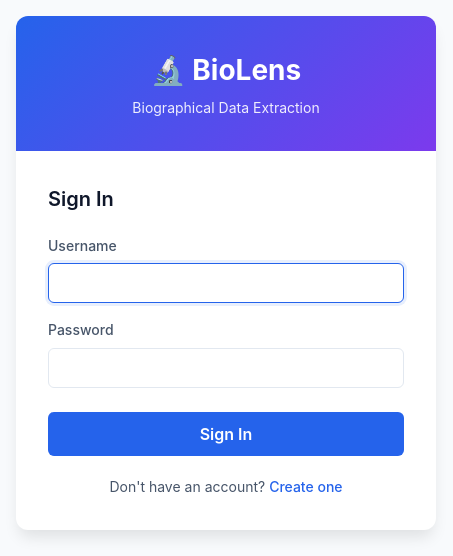
Scenario: LoginScreen › disables button while loading
Type "testuser" into the field labelled "Username" at (226, 283), box [48,263,404,303]
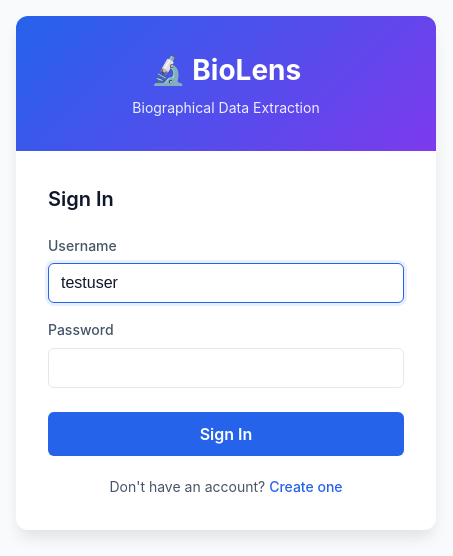
Type "testpass" into the password field labelled "Password" at (226, 368), box [48,348,404,388]
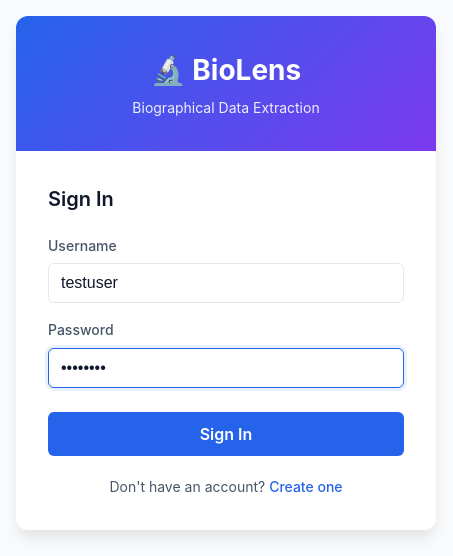
Click the button "Sign In" at (226, 434), box [48,412,404,456]
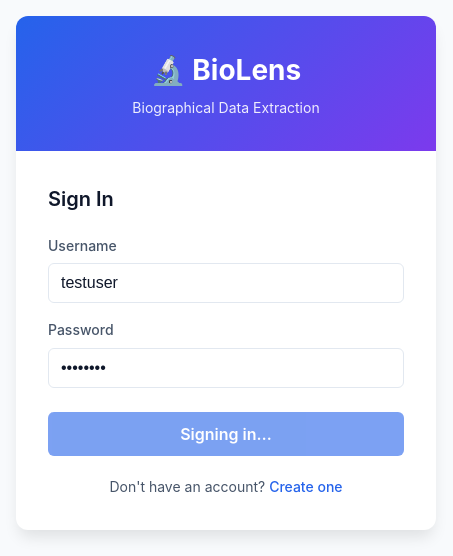
expect the button is disabled: met, box [48,412,404,456]
